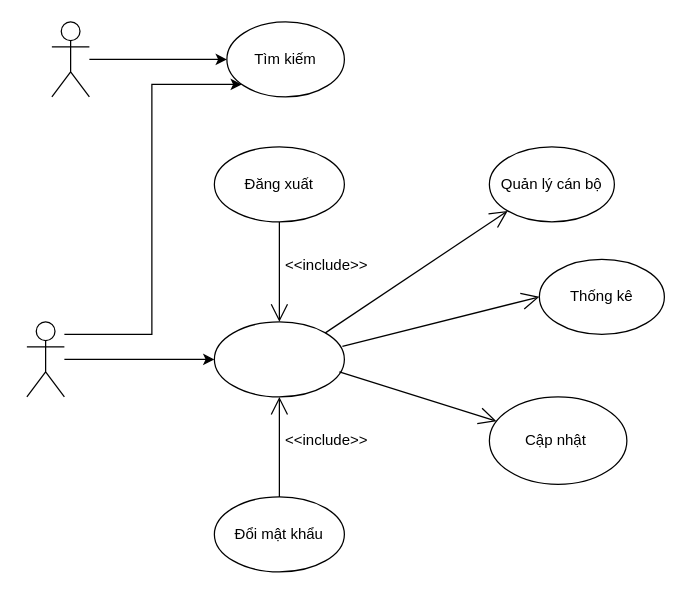
Image size: 686x594. Some labels were removed from this diagram. The shapes that lost their labels are listed below. From the top down, each one's box as (x1, y1, x2, y2) in pixels, then its label:
(51, 21, 89, 97): Khách
(26, 321, 64, 397): Cán bộ
(213, 321, 344, 397): Đăng nhập
